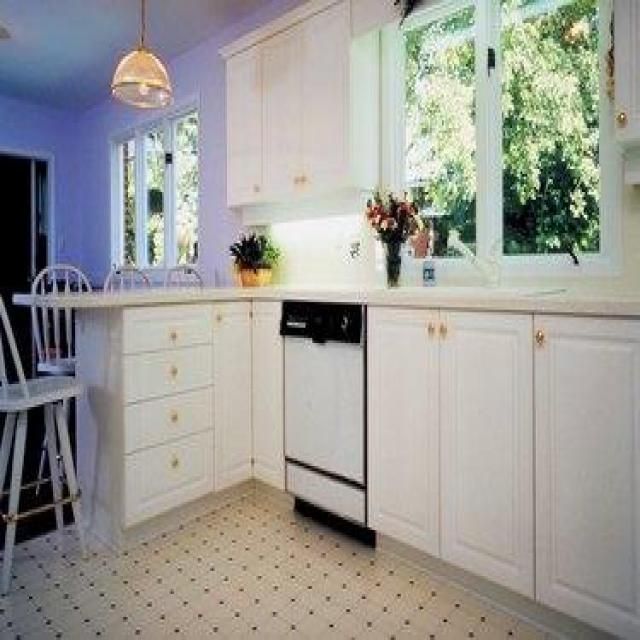dishwasher: (281, 301, 367, 527)
